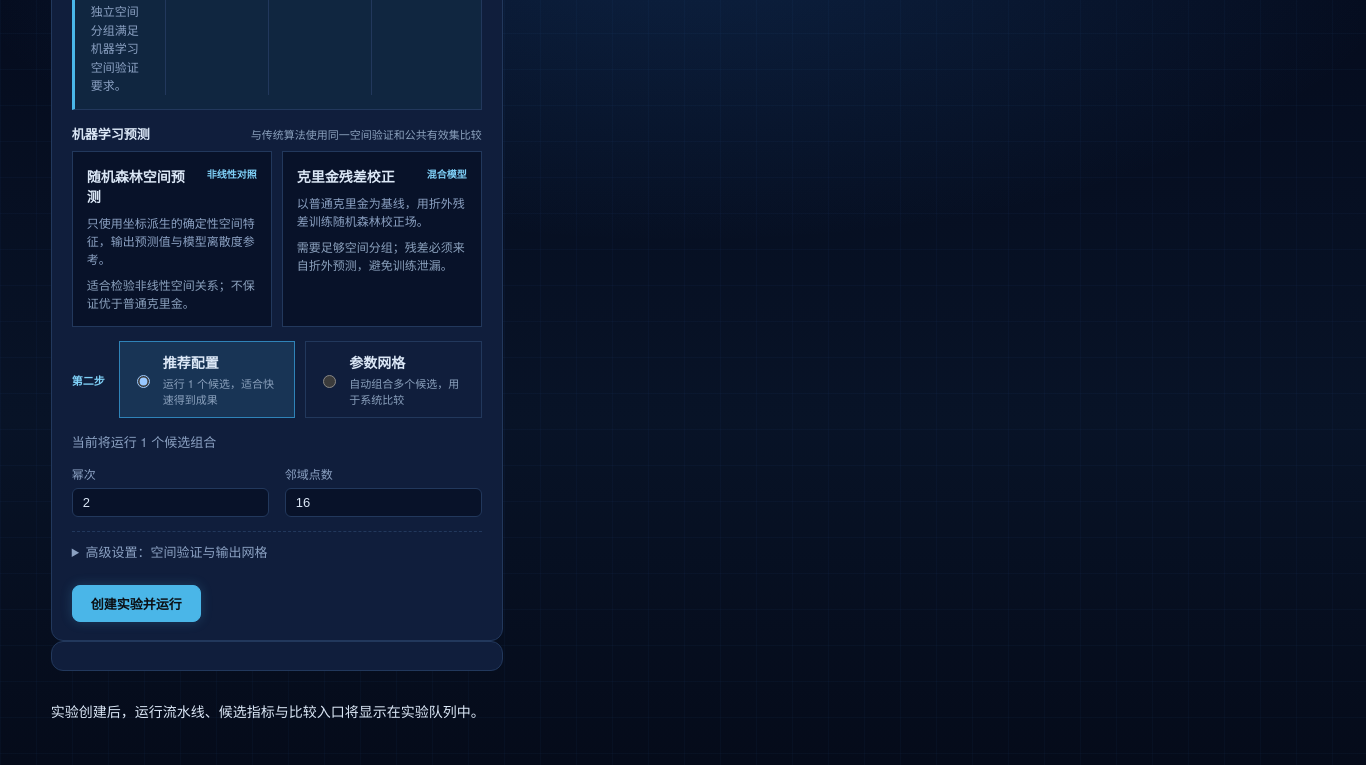
Test: ExperimentView 创建模式 › 超过 30 组合显示警告但允许提交
(page scrolled)
Click the radio button with test id "mode-grid" at (330, 381), box [323,375,336,388]
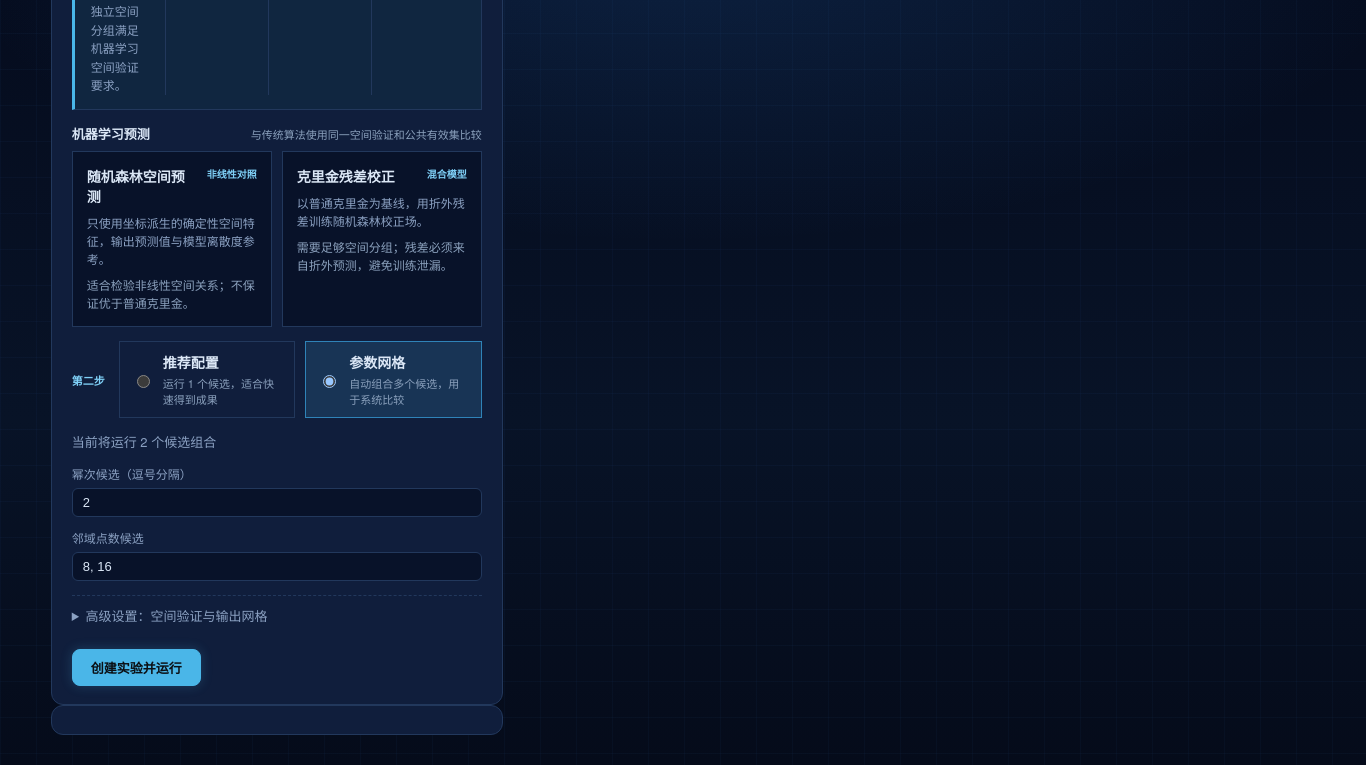
Replace the text in the field with test id "grid-power" with "1,1.5,2,2.5,3,3.5" at (277, 503), box [72,488,482,517]
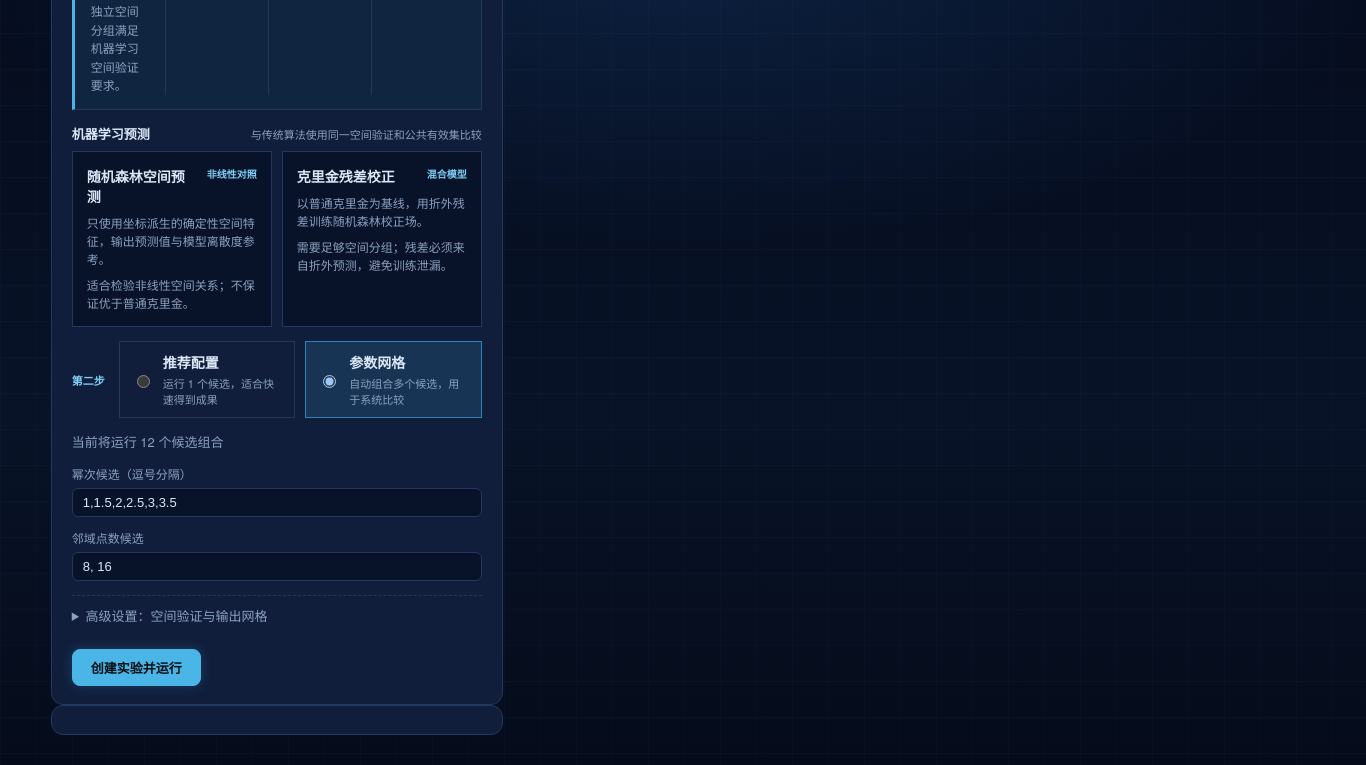
Replace the text in the field with test id "grid-neighbors" with "4,8,12,16,20,24" at (277, 567), box [72,552,482,581]
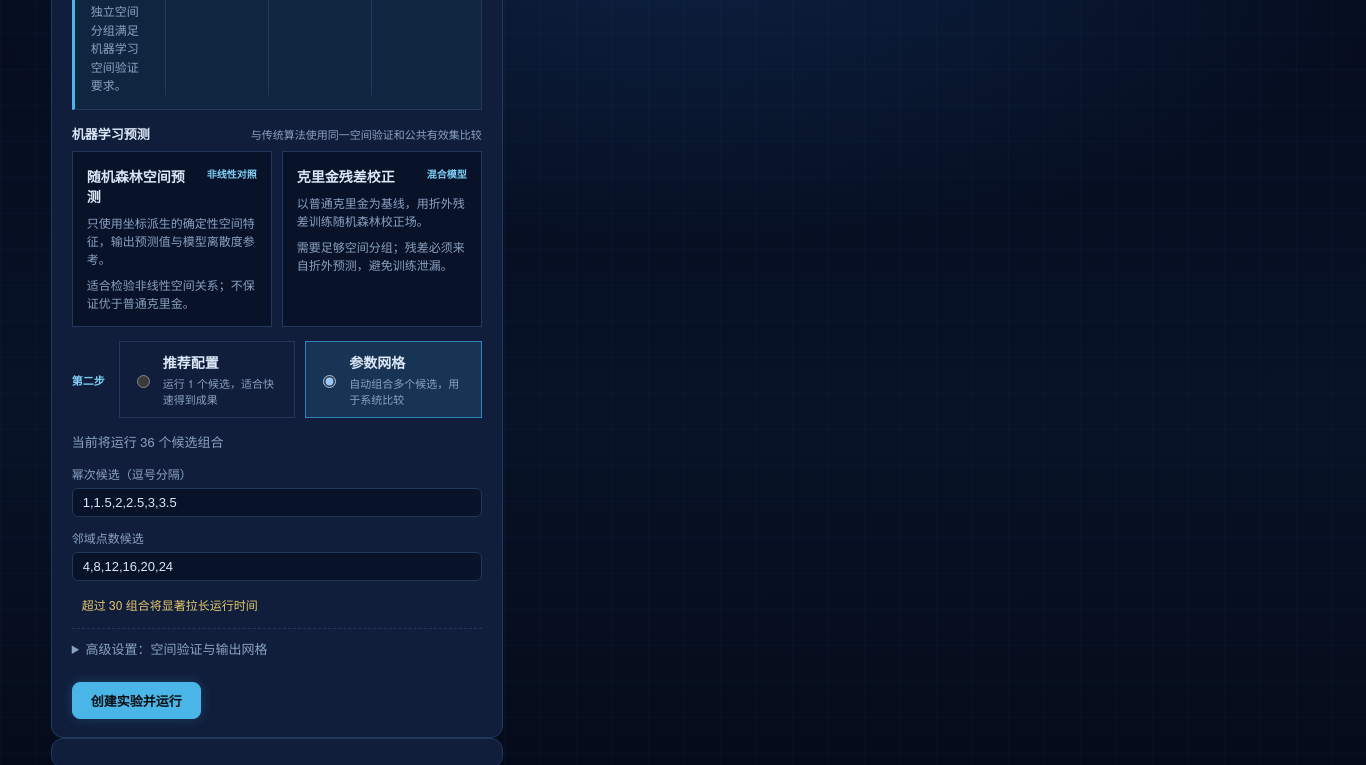
Expected: the button with test id "exp-submit" is enabled, [72,682,201,719]
Now the text "36 个候选组合" is shown, box [72,432,223,451]
Now the text "超过 30 组合将显著拉长运行时间" is shown, box [82,596,258,613]
